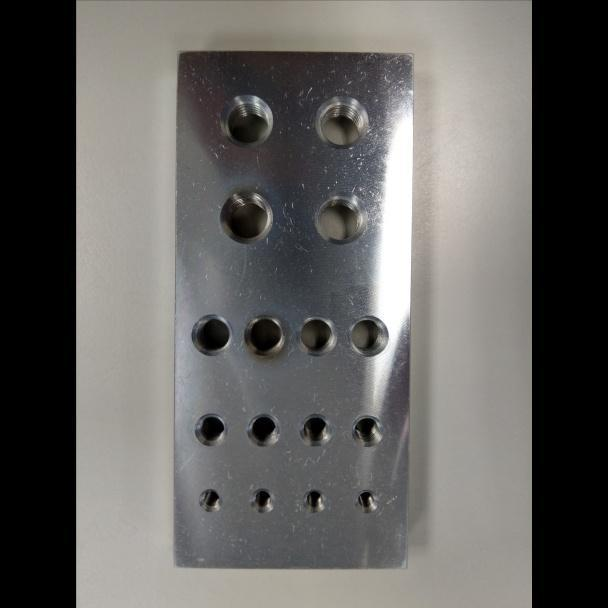hole: (218, 190, 273, 245), (218, 93, 273, 148), (313, 95, 369, 149), (313, 192, 368, 245), (190, 313, 234, 356), (242, 314, 285, 357), (294, 315, 338, 357), (346, 315, 389, 357), (246, 413, 281, 448), (193, 412, 228, 447), (298, 412, 332, 447), (350, 415, 383, 447), (353, 488, 380, 513), (249, 488, 275, 513), (197, 488, 222, 513), (301, 489, 326, 513)
